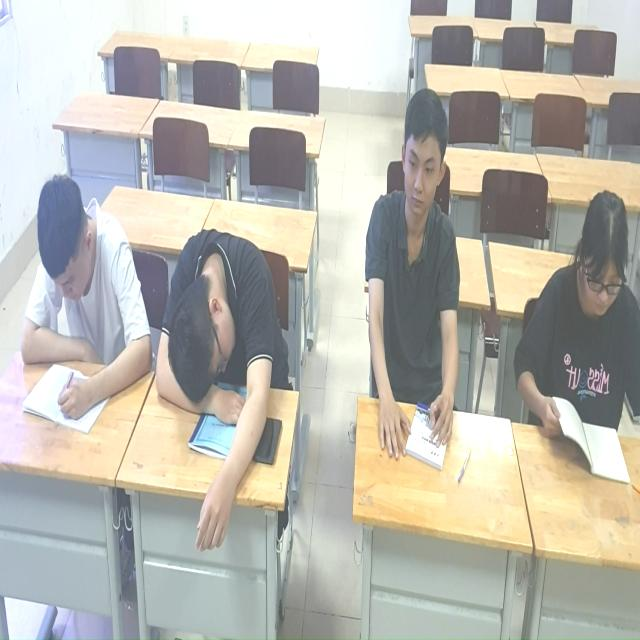read: (514, 187, 640, 485), (19, 165, 158, 429), (365, 82, 465, 447)
sleep: (155, 211, 282, 577)
